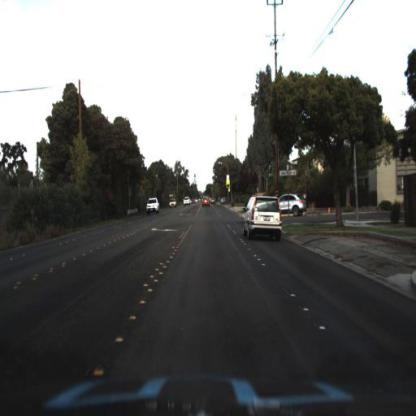car: (243, 196, 282, 247), (277, 195, 306, 216), (146, 198, 162, 219), (168, 197, 180, 213), (202, 199, 212, 213), (183, 194, 191, 207)
